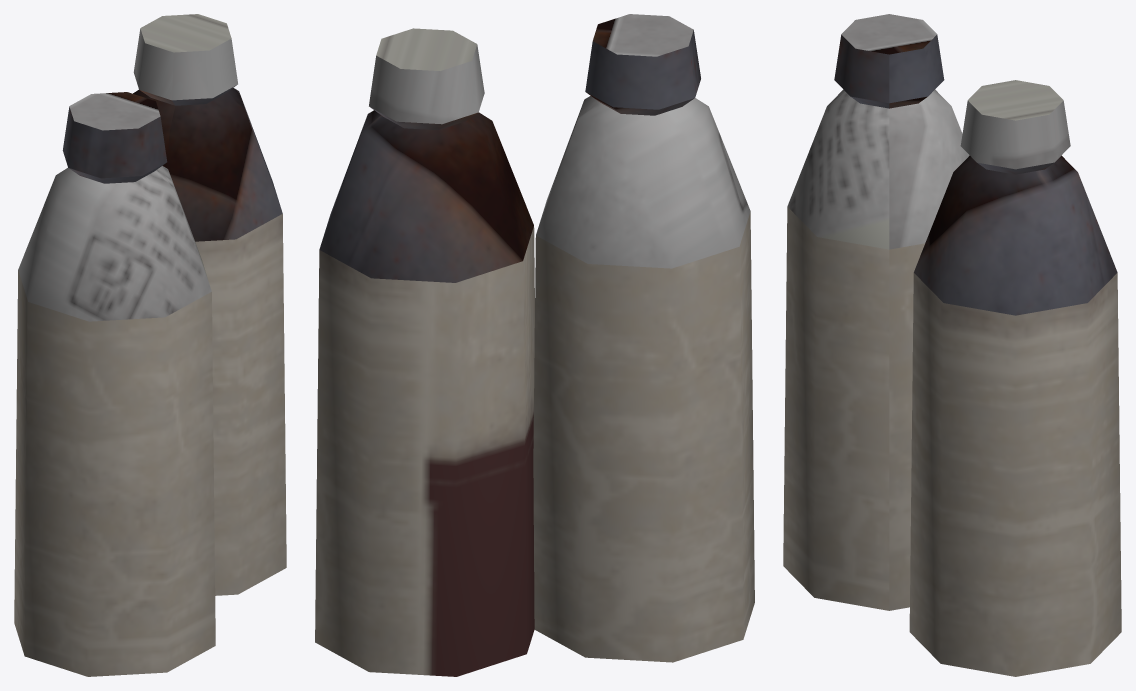
Rendered from Bottles2.fbx.
3 renders of one model, left to right at view 1: azimuth 30°, elevation 25°; view 2: azimuth 150°, elevation 25°; view 3: azimuth 270°, elevation 25°, orthographic. The views are drawn at different scales.
Parts seen in each view (by area): view 1: Bottles2; view 2: Bottles2; view 3: Bottles2.
Boxes of the visible parts, <box> form: Bottles2: <box>14,14,286,676</box>; Bottles2: <box>315,14,754,676</box>; Bottles2: <box>783,14,1121,676</box>.
Size of the model in its own units: 24.54 by 39.09 by 22.55.
